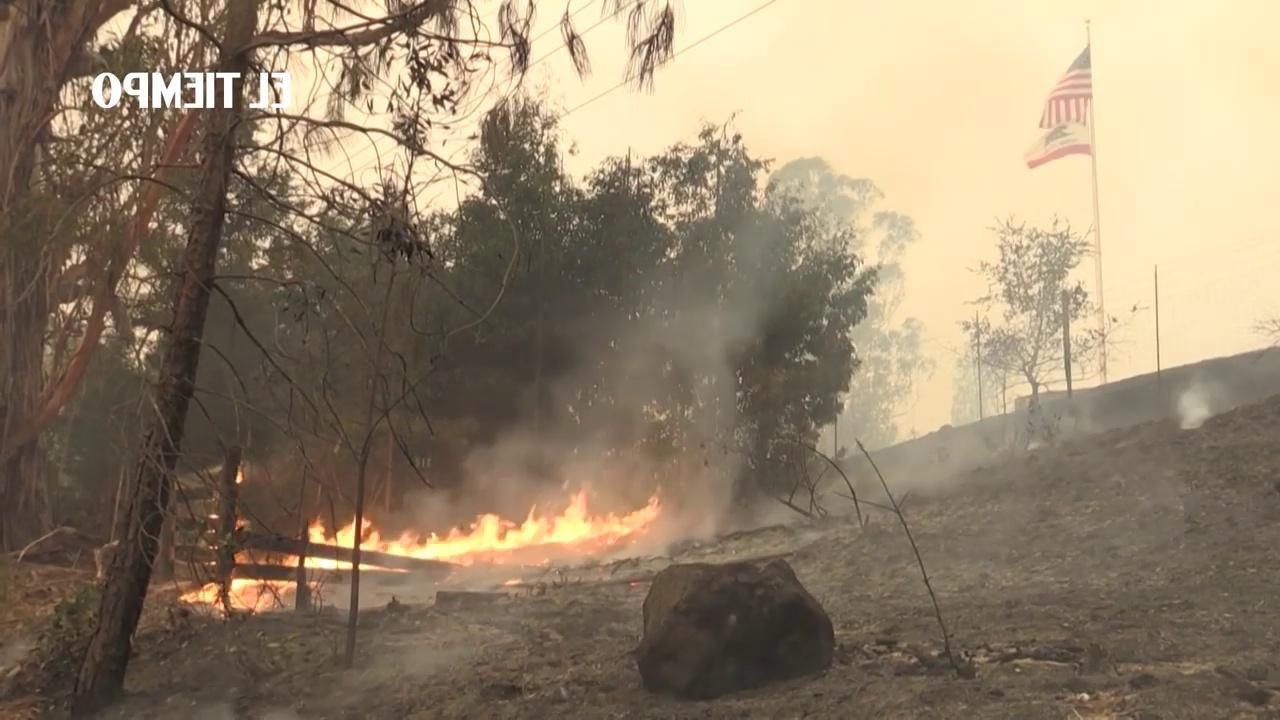Fire: (285, 484, 670, 564), (179, 576, 285, 616), (234, 463, 248, 484)
